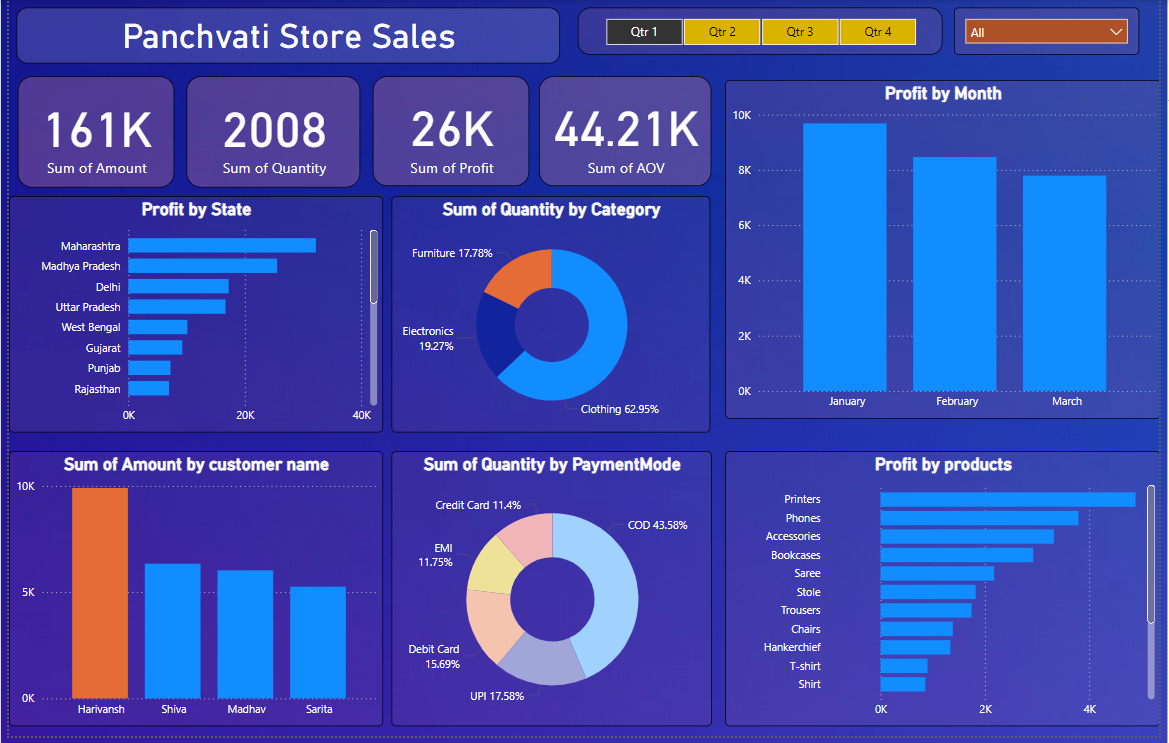

What the dashboard file says about the page in this screenshot:
{"tool":"powerbi","page":{"name":"Page 1","canvas":[1282,820],"ordinal":0},"visuals":[{"type":"textbox","box":[8.4,8.4,605.8,62.7],"z":0},{"type":"columnChart","title":"Profit by Month","fields":{"Y":["Details.Profit"],"Category":["Orders.Order Date.Variation.Date Hierarchy.Month"]},"box":[798,89.1,484.6,377.4],"z":1000},{"type":"clusteredBarChart","title":"Profit by Month","fields":{"Category":["Details.Sub-Category"],"Y":["Details.Profit"]},"box":[798,502.8,484.6,306.4],"z":2000},{"type":"donutChart","fields":{"Y":["Details.Quantity"],"Category":["Details.Category"]},"box":[426.2,218.6,355.1,263.2],"z":3000},{"type":"donutChart","fields":{"Y":["Details.Quantity"],"Category":["Details.PaymentMode"]},"box":[426.2,502.8,356.5,306.4],"z":4000},{"type":"card","fields":{"Values":["Details.Amount"]},"box":[9.7,85,174.1,123.9],"z":5000},{"type":"card","fields":{"Values":["Details.Quantity"]},"box":[197.8,85,193.6,123.9],"z":6000},{"type":"card","fields":{"Values":["Details.Profit"]},"box":[405.3,85,174.1,122.6],"z":7000},{"type":"card","fields":{"Values":["Details.AOV"]},"box":[590.5,85,192.2,122.6],"z":8000},{"type":"clusteredBarChart","title":"Profit by Month","fields":{"Y":["Details.Amount"],"Category":["Orders.State"]},"box":[0,218.6,416.4,263.2],"z":9000},{"type":"clusteredColumnChart","title":"Profit by Month","fields":{"Y":["Details.Amount"],"Category":["Orders.CustomerName"]},"box":[0,502.8,416.4,306.4],"z":10000},{"type":"slicer","fields":{"Values":["Orders.Order Date.Variation.Date Hierarchy.Quarter"]},"box":[633.7,8.4,406.7,52.9],"z":11000},{"type":"slicer","fields":{"Values":["Orders.State"]},"box":[1052.9,8.4,206.1,52.9],"z":12000}]}

Visuals, with their boxes in screenshot pixels (x1, y1, x2, y2), scaled from the page's 1282x820 canvas onto the 1169x743 screenshot:
textbox: 8:8:560:64
"Profit by Month" columnChart: 728:81:1168:423
"Profit by Month" clusteredBarChart: 728:456:1168:733
donutChart - Details.Quantity x Details.Category: 389:198:712:437
donutChart - Details.Quantity x Details.PaymentMode: 389:456:714:733
card - Details.Amount: 9:77:168:189
card - Details.Quantity: 180:77:357:189
card - Details.Profit: 370:77:528:188
card - Details.AOV: 538:77:714:188
"Profit by Month" clusteredBarChart: 0:198:380:437
"Profit by Month" clusteredColumnChart: 0:456:380:733
slicer - Orders.Order Date.Variation.Date Hierarchy.Quarter: 578:8:949:56
slicer - Orders.State: 960:8:1148:56
